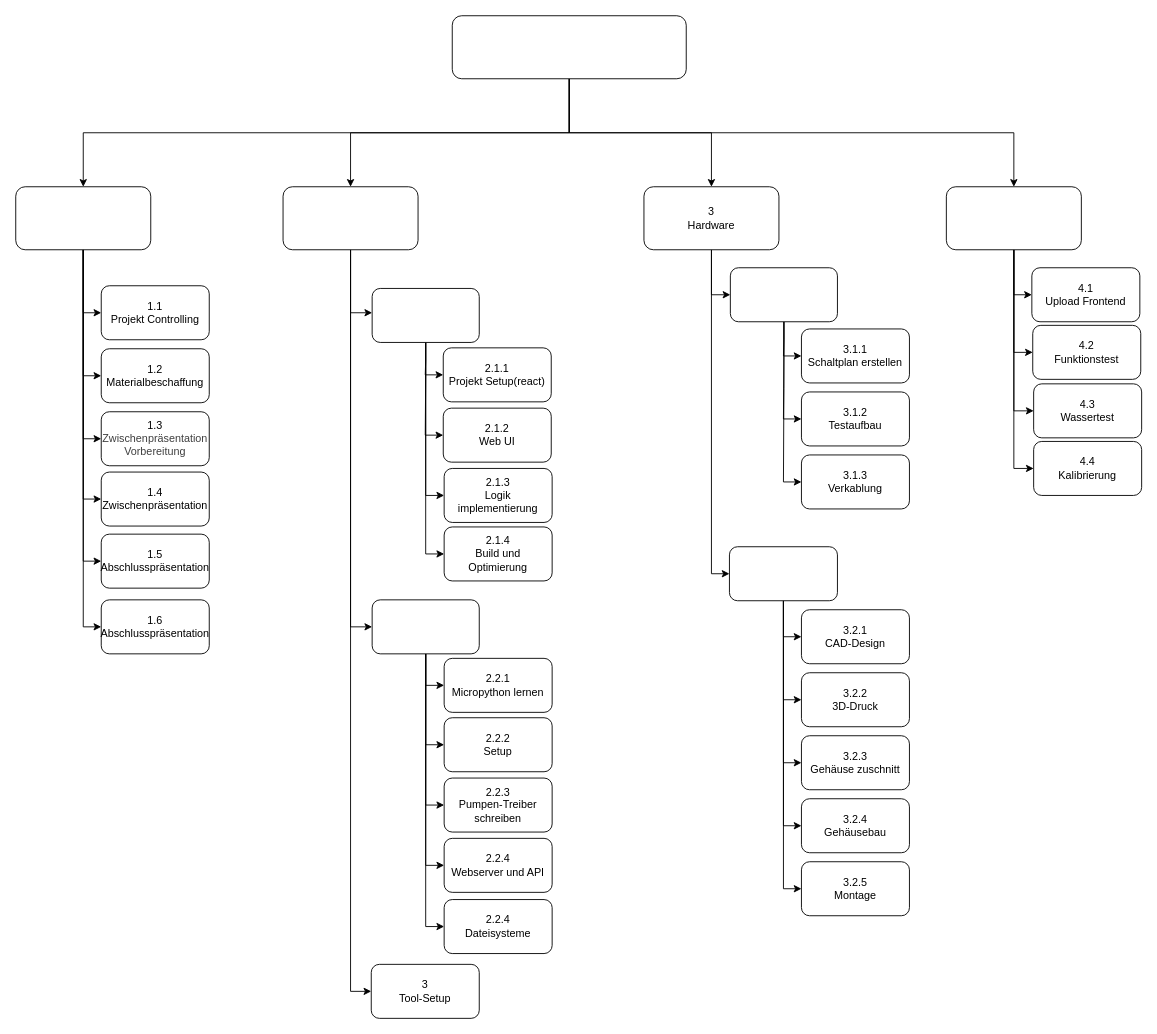
The diagram is 1157 pixels wide and 1034 high, and some of its shapes have lost their labels. The shapes that lost their labels are listed below. From the top down, each one's centre as x and y in pixels, then its label:
pixel 568 47: Getränkemischer
pixel 83 218: 1 Projektmanagment
pixel 350 218: 2 Software
pixel 1013 218: 4 Test
pixel 783 294: 3.1 Elektronik
pixel 425 315: 2.1 Frontend
pixel 783 573: 3.2 Mechanik und Gehäuse
pixel 425 626: 2.2 Backend
